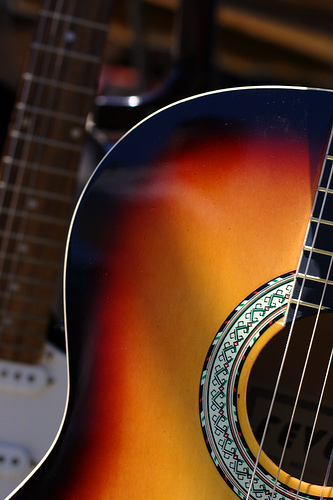guitar: (1, 79, 333, 500)
